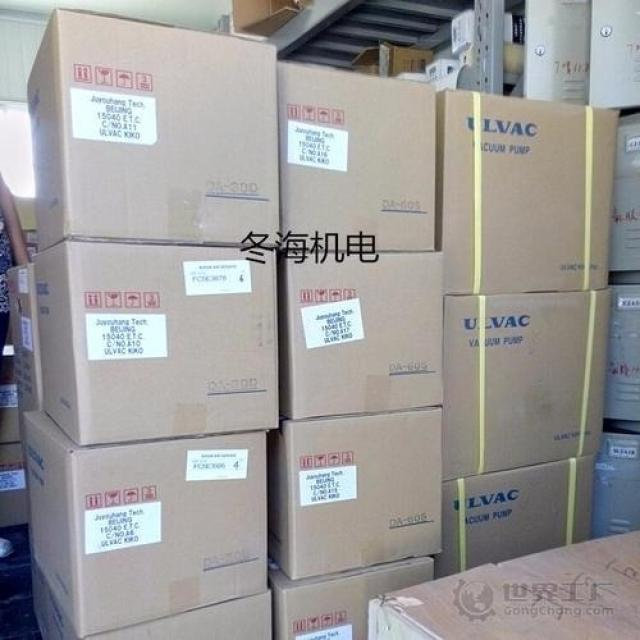box: (26, 9, 281, 253), (24, 409, 270, 639), (35, 239, 279, 448), (434, 88, 620, 295), (442, 289, 612, 482), (267, 405, 443, 580), (279, 61, 436, 250), (276, 244, 444, 419), (428, 454, 595, 580), (367, 562, 628, 639), (497, 529, 639, 639), (269, 552, 435, 639), (82, 589, 271, 639), (32, 557, 82, 639)
